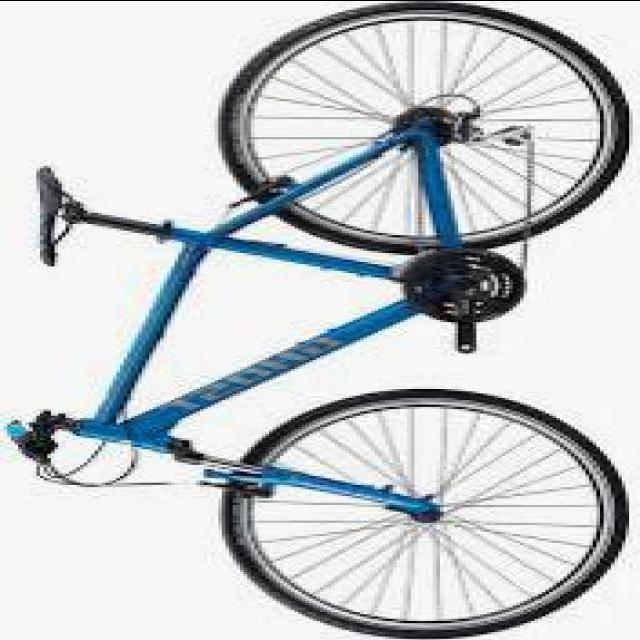bicycle: (23, 21, 609, 639)
